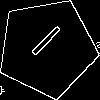I: (22, 22, 64, 66)
